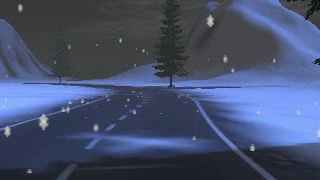Lane: (0, 82, 269, 179)
